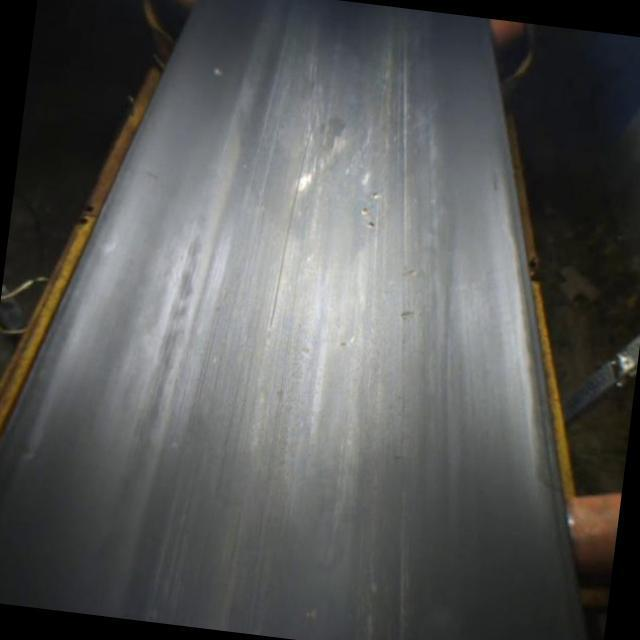Puncture: (366, 220, 378, 230), (372, 190, 382, 201), (358, 206, 369, 216)
